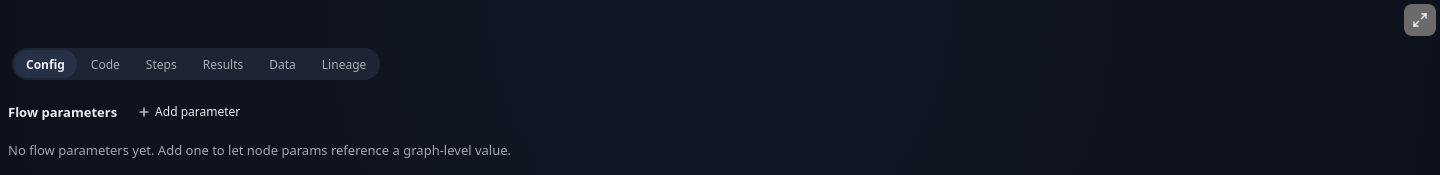
Steps tab shows the empty state when no nodes exist
Click the button with test id "inspector-tab-steps": (161, 64) [134,50,189,78]
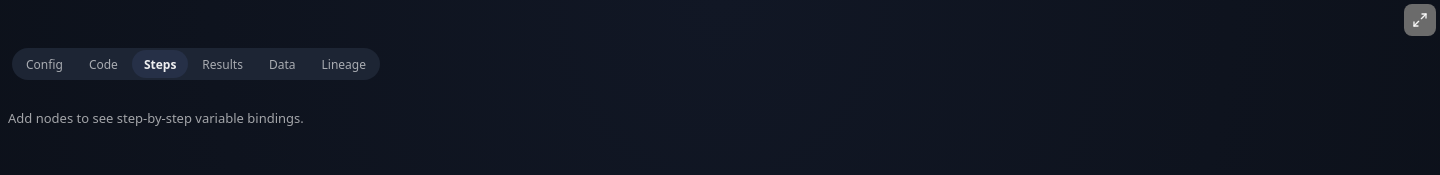
Now the text "Add nodes to see step-by-step variable bindings." is shown, box [8,109,304,127]
